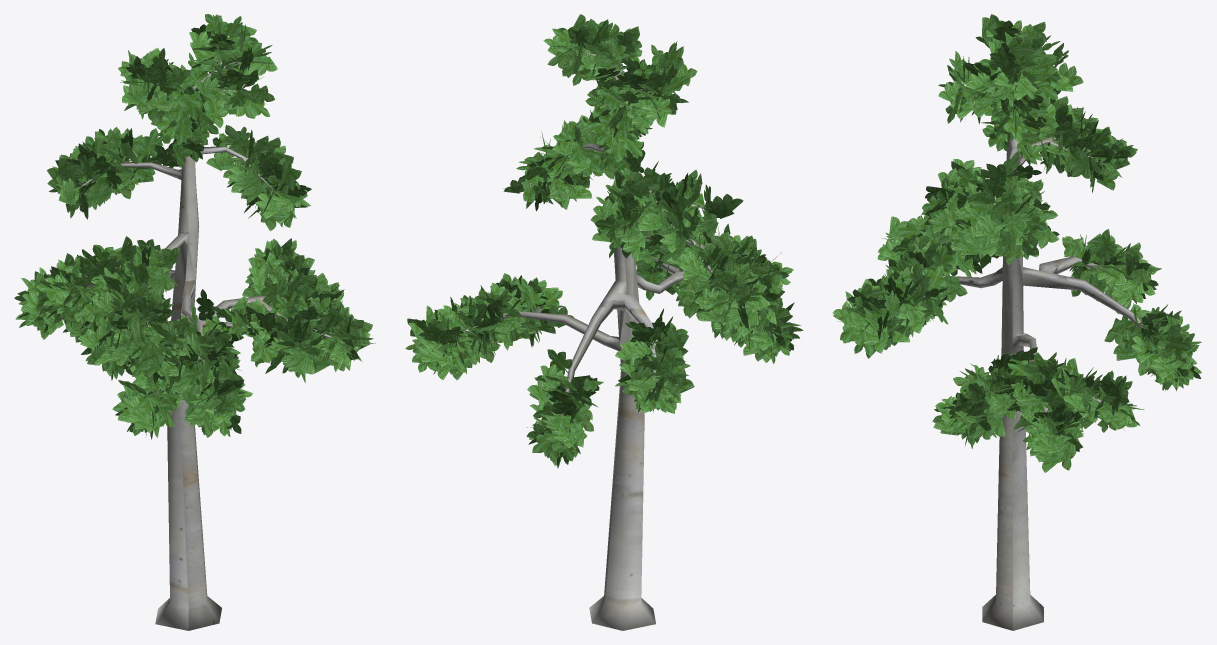
The model's file is birchTree.fbx.
The picture shows the model from 3 angles, left to right: view 1: azimuth 30°, elevation 25°; view 2: azimuth 150°, elevation 25°; view 3: azimuth 270°, elevation 25°; orthographic projection.
Visible parts, largest first — view 1: Cube; view 2: Cube; view 3: Cube.
Part boxes in pixels (box(x1,y1,x2,y2)): Cube: box(14, 14, 375, 630); Cube: box(405, 19, 793, 630); Cube: box(833, 14, 1201, 630).
Size of the model in its own units: 1389 by 2430 by 1374.
